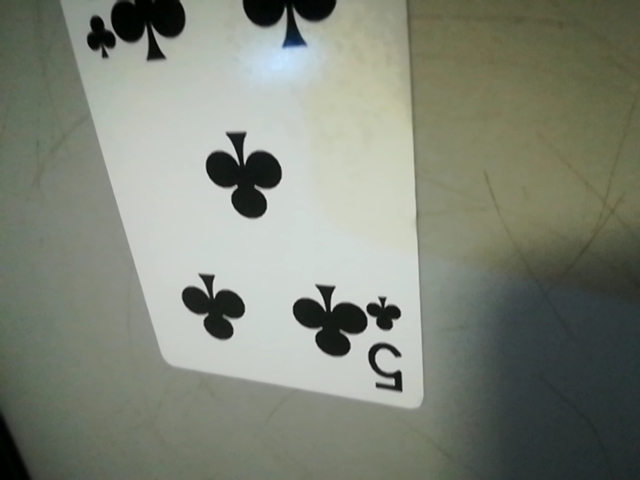mh 5: (367, 289, 407, 393)
